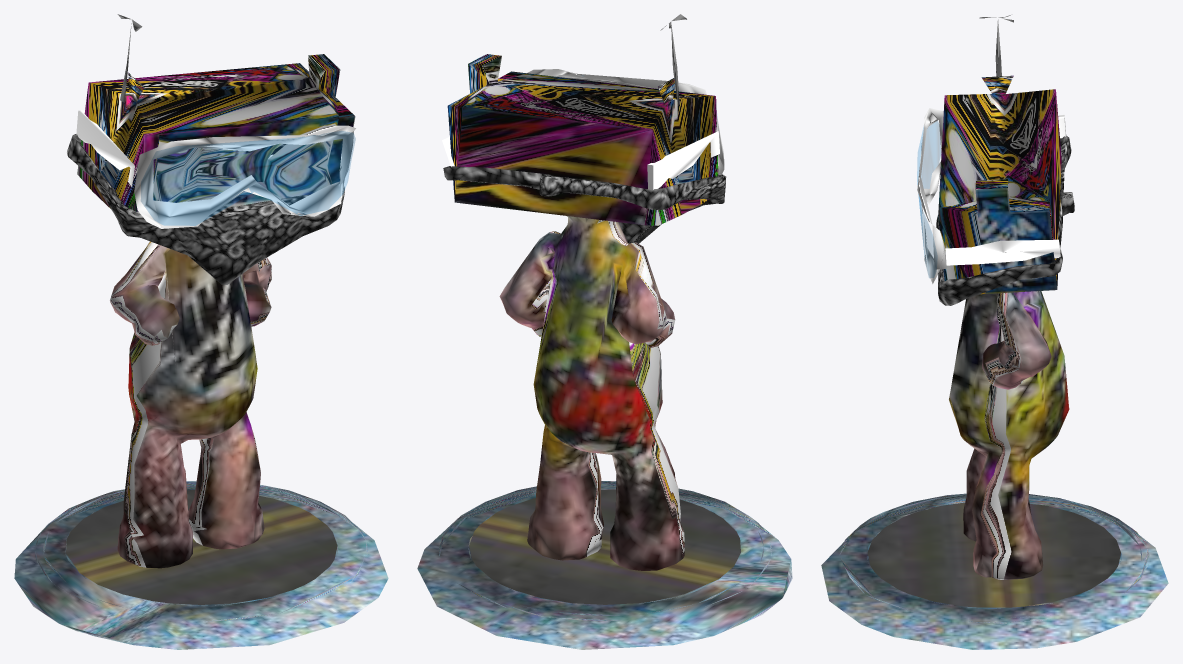
3 views of the same model, side by side, from view 1: azimuth 30°, elevation 25°; view 2: azimuth 150°, elevation 25°; view 3: azimuth 270°, elevation 25° (orthographic). The views are drawn at different scales.
Size of the model in its own units: 1.44 by 2.42 by 1.44.
Materials: 9 (5 with a texture image).
